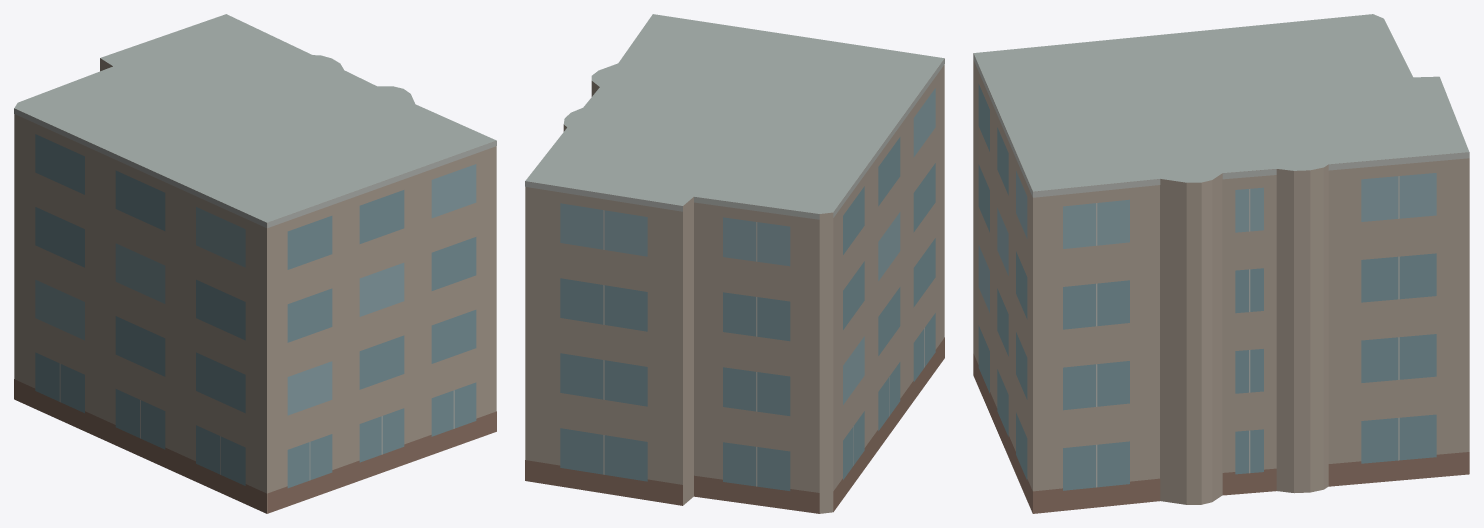
File: survey-upis-32748961.glb
The picture shows the model from 3 angles, left to right: view 1: azimuth 30°, elevation 25°; view 2: azimuth 150°, elevation 25°; view 3: azimuth 270°, elevation 25°; orthographic projection. The views are drawn at different scales.
Visible parts, largest first — view 1: survey-upis-32748961.tmp; view 2: survey-upis-32748961.tmp; view 3: survey-upis-32748961.tmp.
Boxes of the visible parts, x1=… form: survey-upis-32748961.tmp: x1=14, y1=14, x2=496, y2=513; survey-upis-32748961.tmp: x1=525, y1=14, x2=944, y2=513; survey-upis-32748961.tmp: x1=973, y1=14, x2=1469, y2=513.
Size of the model in its own units: 15.02 by 12.7 by 17.73.
